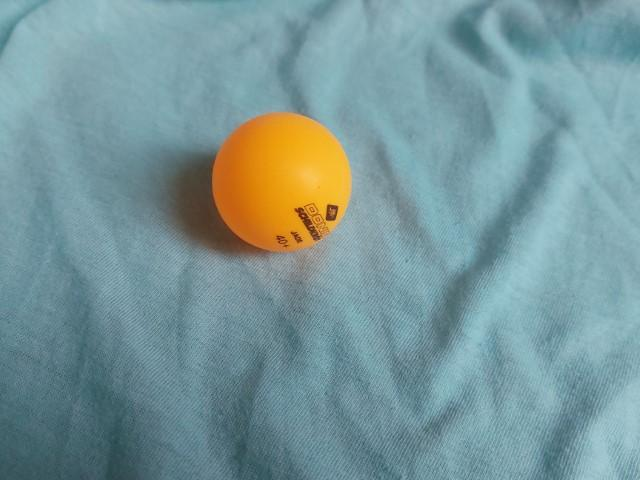oball: (205, 107, 362, 260)
